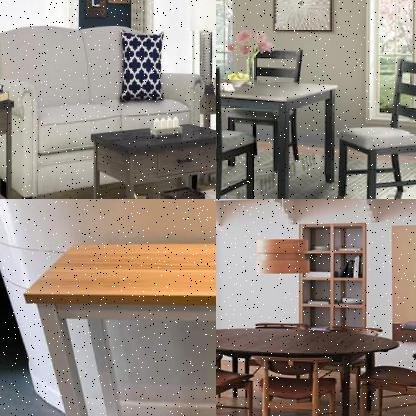table: (19, 235, 215, 415), (216, 325, 401, 415), (216, 68, 344, 198), (88, 115, 215, 198)
